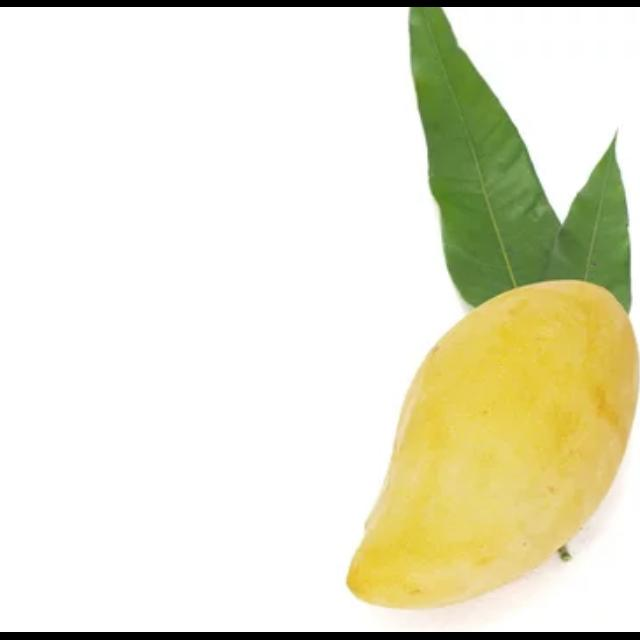mango: (341, 274, 640, 607)
